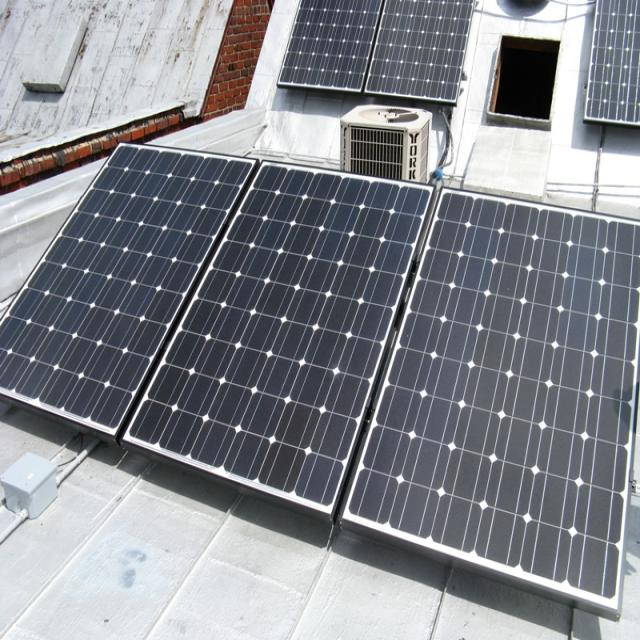clean-solar-panel: (0, 145, 640, 617)
